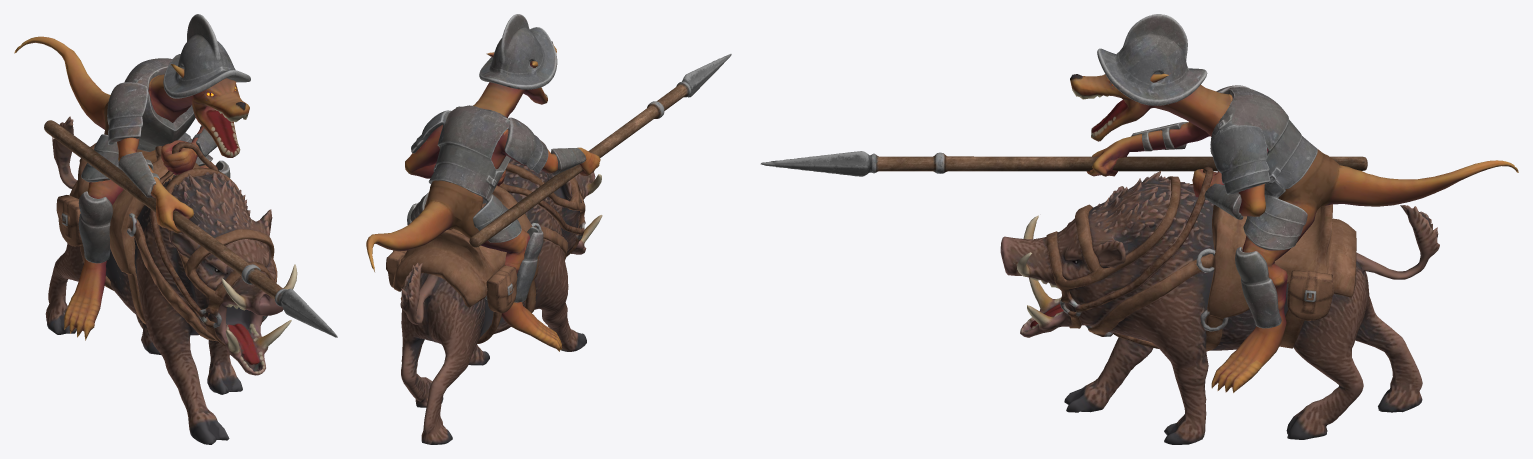
Rendered from MZ4250 - Kobold Paladin on Boar Mount.glb.
The picture shows the model from 3 angles, left to right: view 1: azimuth 30°, elevation 25°; view 2: azimuth 150°, elevation 25°; view 3: azimuth 270°, elevation 25°; orthographic projection. The views are drawn at different scales.
Parts seen in each view (by area): view 1: Boar W Tusk.002; view 2: Boar W Tusk.002; view 3: Boar W Tusk.002.
Part boxes in pixels (x1,y1,x2,y2): Boar W Tusk.002: (14,14,337,444); Boar W Tusk.002: (366,14,731,444); Boar W Tusk.002: (760,14,1518,444).
Bounding box in the file's own units: 7.13 × 14.43 × 24.24.
Materials: 6 (6 with a texture image).
